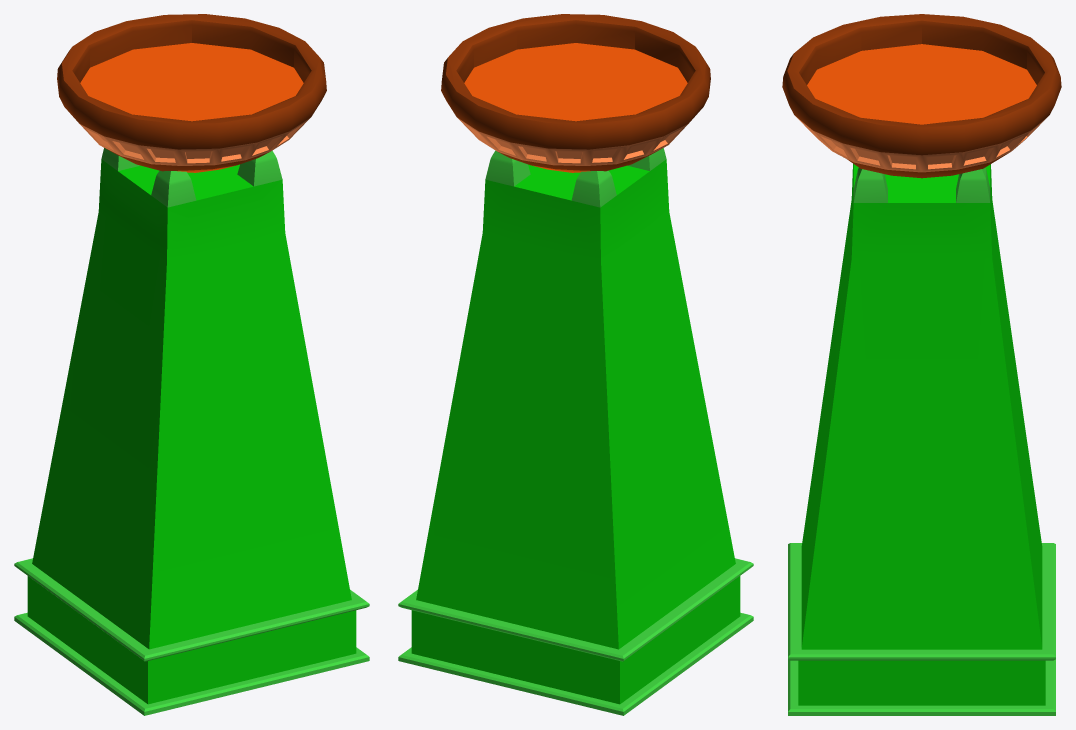
The model's file is Aztec_Torch.fbx.
3 renders of one model, left to right at view 1: azimuth 30°, elevation 25°; view 2: azimuth 150°, elevation 25°; view 3: azimuth 270°, elevation 25°, orthographic. The views are drawn at different scales.
Parts seen in each view (by area): view 1: AztecTorch_Dupe; view 2: AztecTorch_Dupe; view 3: AztecTorch_Dupe.
Part boxes in pixels (x1,y1,x2,y2): AztecTorch_Dupe: (14, 14, 369, 715); AztecTorch_Dupe: (398, 14, 753, 715); AztecTorch_Dupe: (782, 14, 1061, 715).
Size of the model in its own units: 8.36 by 19.4 by 8.34.
